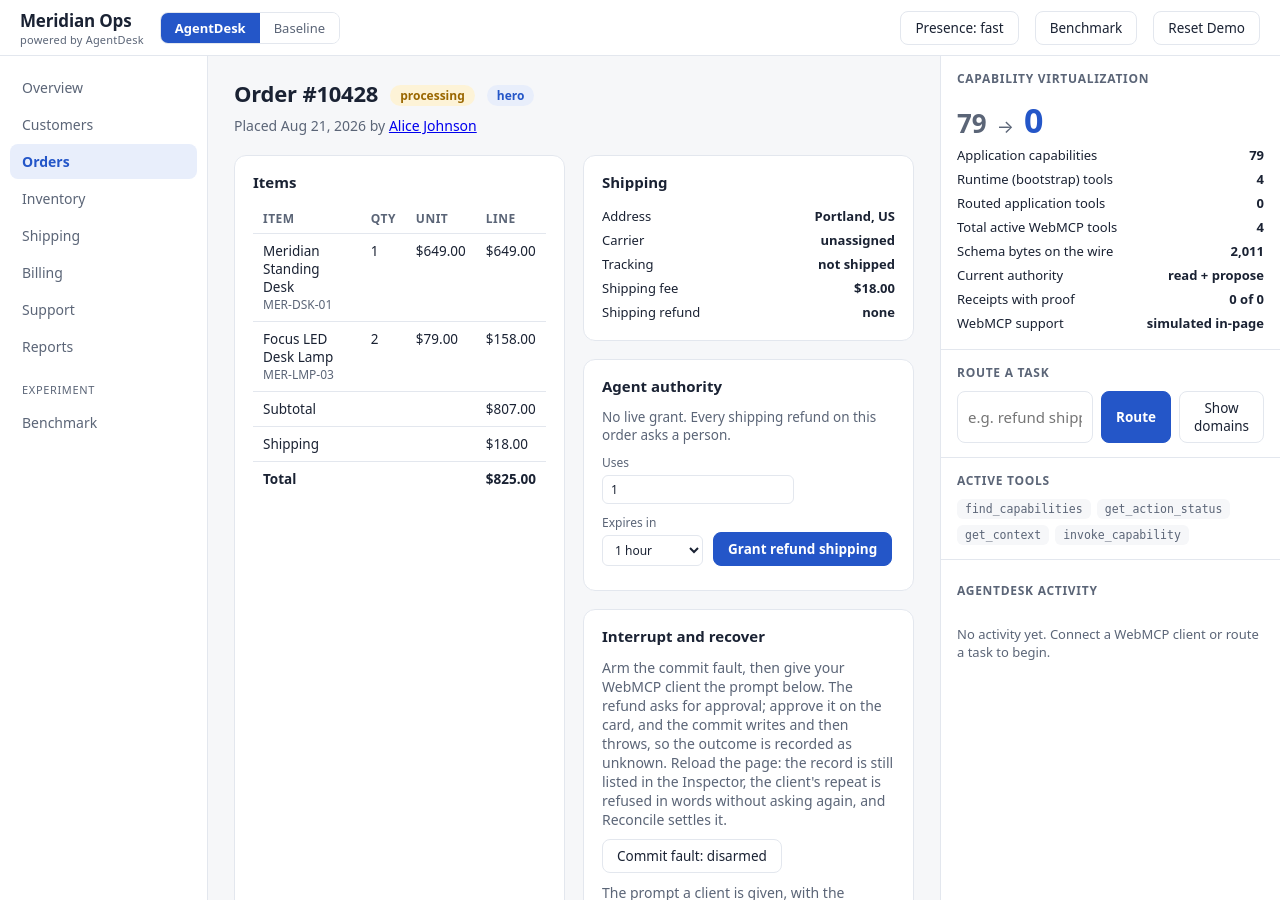
Scenario: the durability card is the page's: it arms the fault, states the prompt, and renders what the runtime recorded › Reset Demo restores the seed, empties the store, and the card waits again
Click the button "Commit fault: disarmed".
click(692, 856)  # box [602, 839, 782, 873]
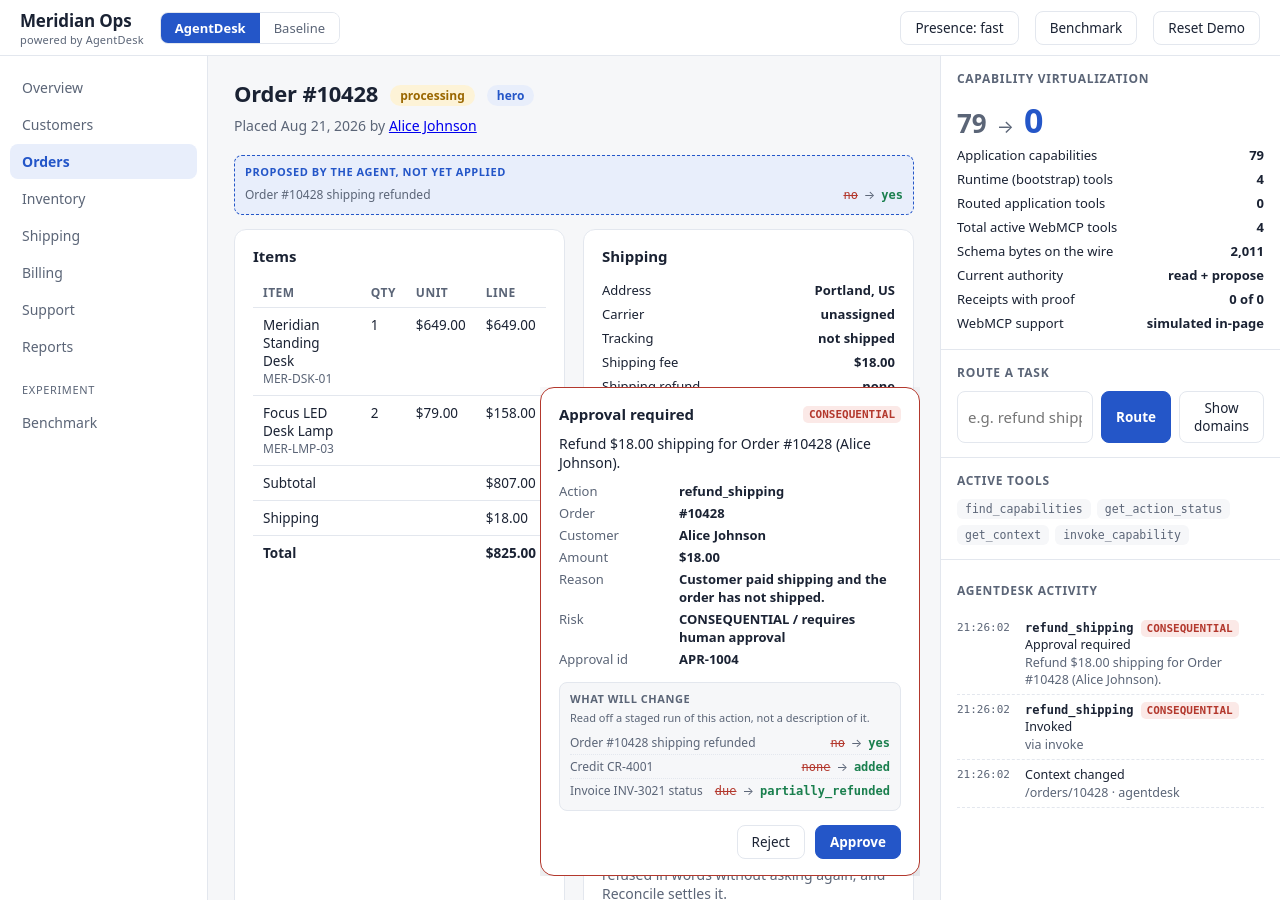
Click the button "Approve".
click(858, 842)  # box [815, 825, 901, 859]
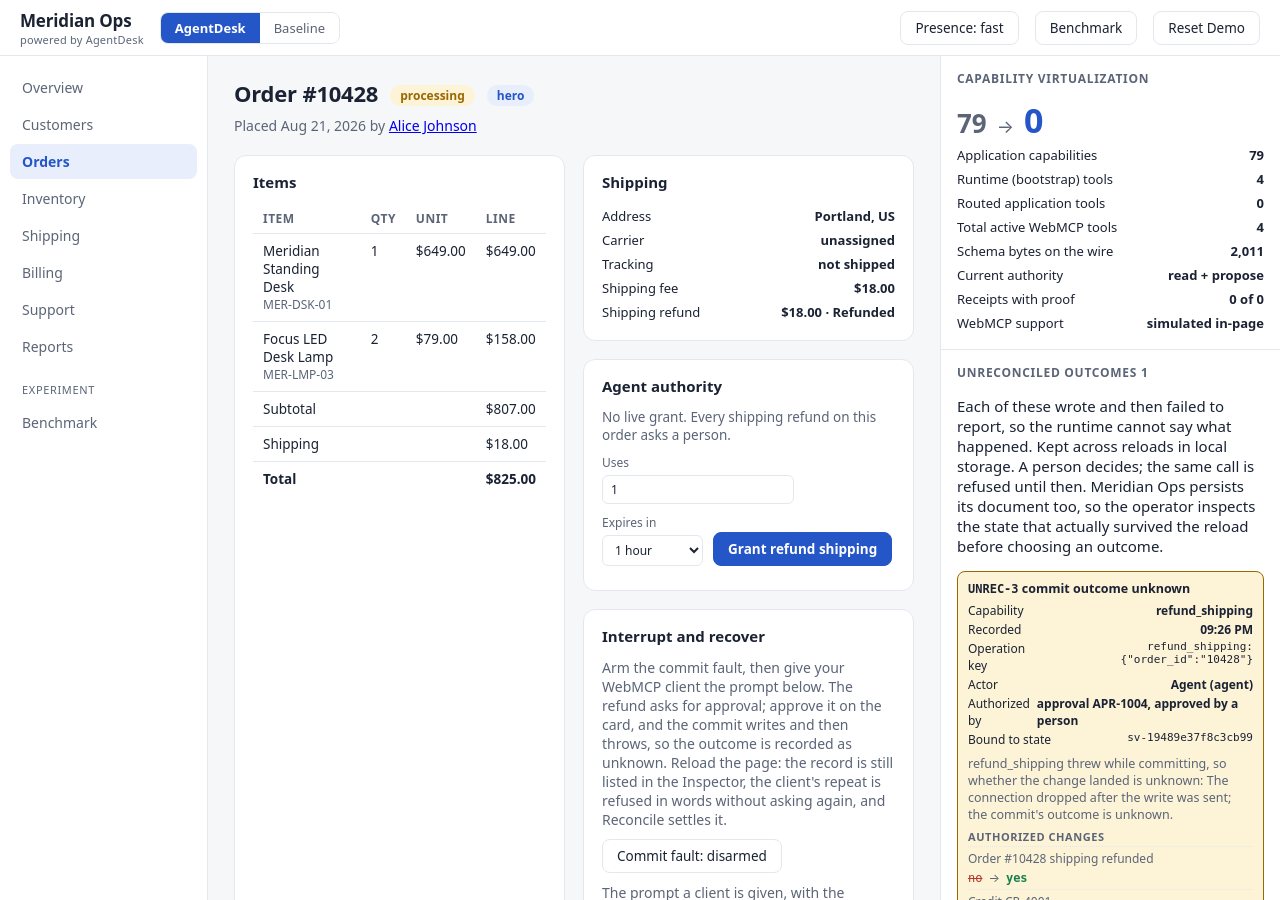
Click the button "Reset Demo".
click(1207, 28)  # box [1153, 10, 1260, 44]
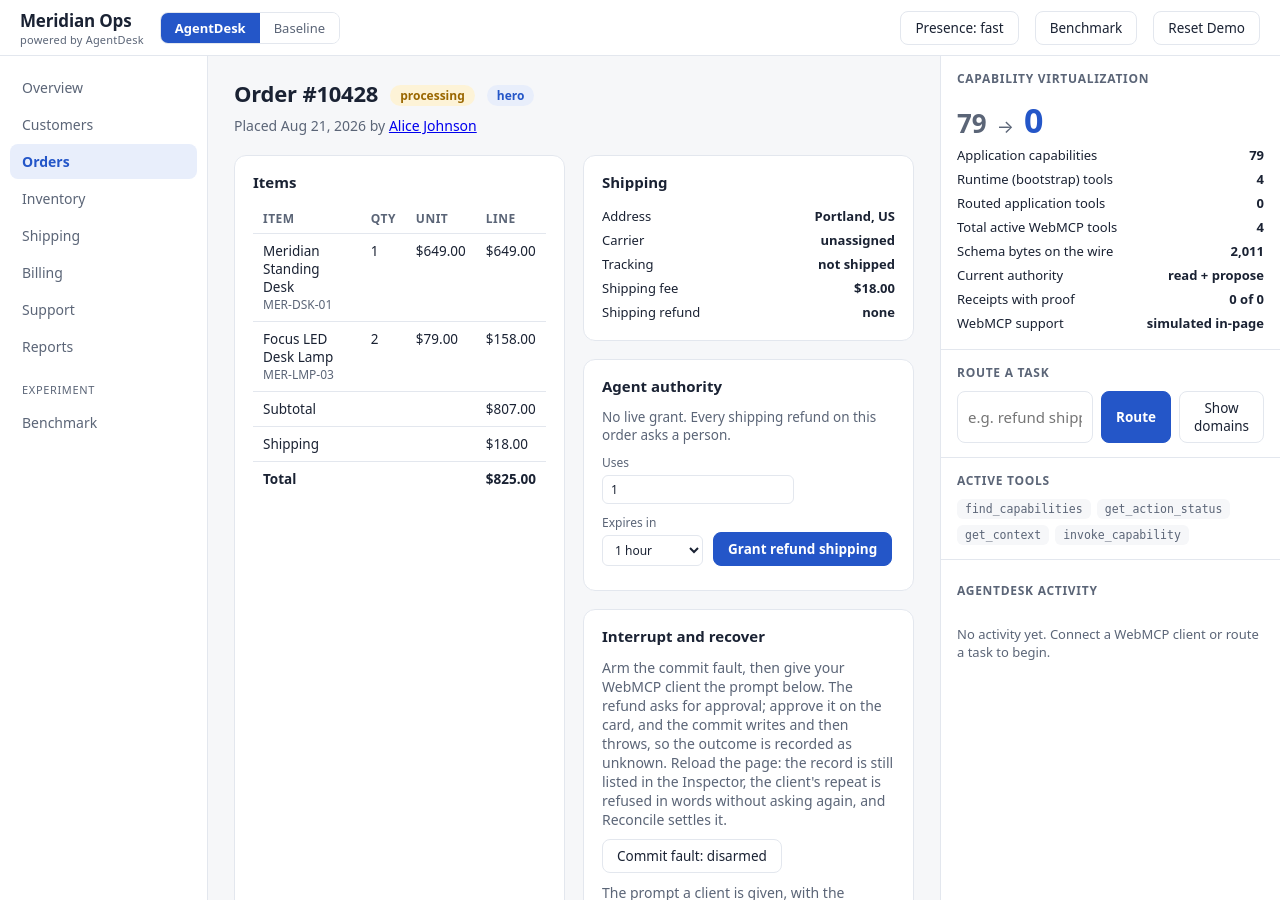
Expected: the heading "Unreconciled outcomes" is gone
